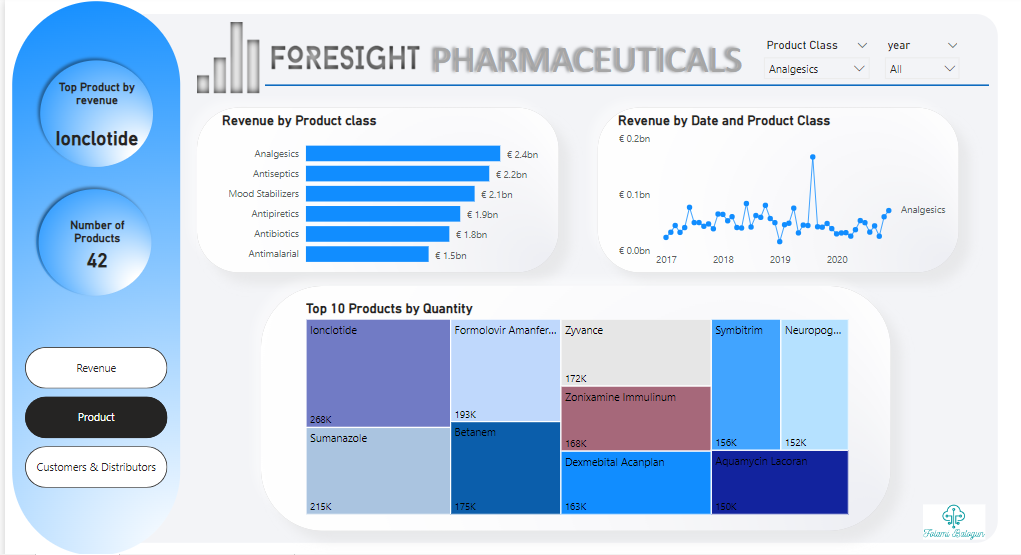

Layout of this report page (visuals, bound fields, positions):
{"tool":"powerbi","page":{"name":"Product","canvas":[1280,720],"ordinal":1},"visuals":[{"type":"slicer","fields":{"Values":["calendar.year"]},"box":[1090,43.3,113.3,58.3],"z":0},{"type":"clusteredBarChart","title":"Revenue by Product class","fields":{"Y":["Dax measures.revenue"],"Category":["Data.Product Class"]},"box":[266.7,140,413.3,203.3],"z":1000},{"type":"lineChart","title":"Revenue by Date and Product Class","fields":{"Category":["calendar.Date"],"Y":["Dax measures.revenue"],"Series":["Data.Product Class"]},"box":[761.7,140,425,203.3],"z":2000},{"type":"pageNavigator","box":[25,433.3,178.3,178.3],"z":3000},{"type":"slicer","fields":{"Values":["Data.Product Class"]},"box":[938.3,43.3,151.7,58.3],"z":4000},{"type":"card","title":"Number of Products","fields":{"Values":["Count(Data.Product Name)"]},"box":[68.3,273.3,93.3,70],"z":5000},{"type":"card","title":"Top Product by revenue","fields":{"Values":["Min(Data.Product Name)"]},"box":[50,101.7,130,110],"z":6000},{"type":"treemap","title":"Top 10 Products by Quantity","fields":{"Group":["Data.Product Name"],"Values":["Sum(Data.Quantity)"]},"box":[371.7,375,688.3,273.3],"z":7000},{"type":"shape","box":[325,90,905,33.3],"z":8000},{"type":"image","box":[1142,612,88,80],"z":9000}]}

Visuals, with their boxes on the page's 1280x720 design canvas (x1, y1, x2, y2). These are canvas units, not pixel positions in the 1021x555 screenshot, which may show the page scaled, cropped or inside an application window:
slicer - calendar.year: {"left": 1090, "top": 43, "right": 1203, "bottom": 102}
"Revenue by Product class" clusteredBarChart: {"left": 267, "top": 140, "right": 680, "bottom": 343}
"Revenue by Date and Product Class" lineChart: {"left": 762, "top": 140, "right": 1187, "bottom": 343}
pageNavigator: {"left": 25, "top": 433, "right": 203, "bottom": 612}
slicer - Data.Product Class: {"left": 938, "top": 43, "right": 1090, "bottom": 102}
"Number of Products" card: {"left": 68, "top": 273, "right": 162, "bottom": 343}
"Top Product by revenue" card: {"left": 50, "top": 102, "right": 180, "bottom": 212}
"Top 10 Products by Quantity" treemap: {"left": 372, "top": 375, "right": 1060, "bottom": 648}
shape: {"left": 325, "top": 90, "right": 1230, "bottom": 123}
image: {"left": 1142, "top": 612, "right": 1230, "bottom": 692}
